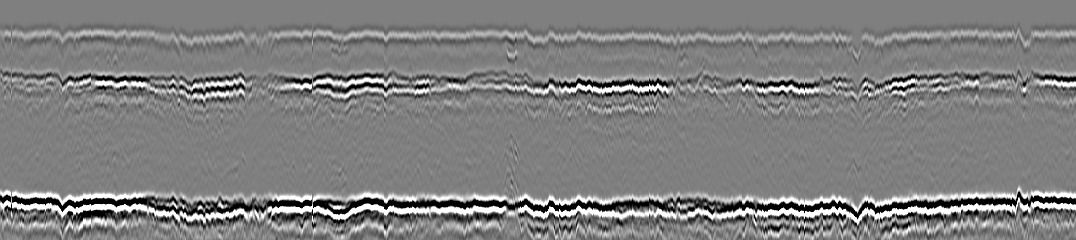fault: (237, 15, 278, 62), (840, 74, 875, 119), (47, 68, 77, 116), (241, 70, 276, 111), (1011, 16, 1042, 59), (1013, 65, 1041, 109), (840, 24, 870, 65), (51, 18, 76, 59)
